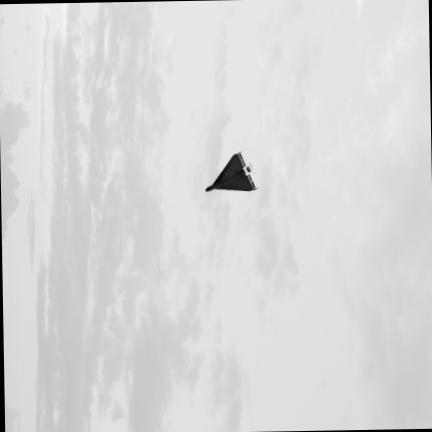Shahed: (205, 153, 255, 190)
